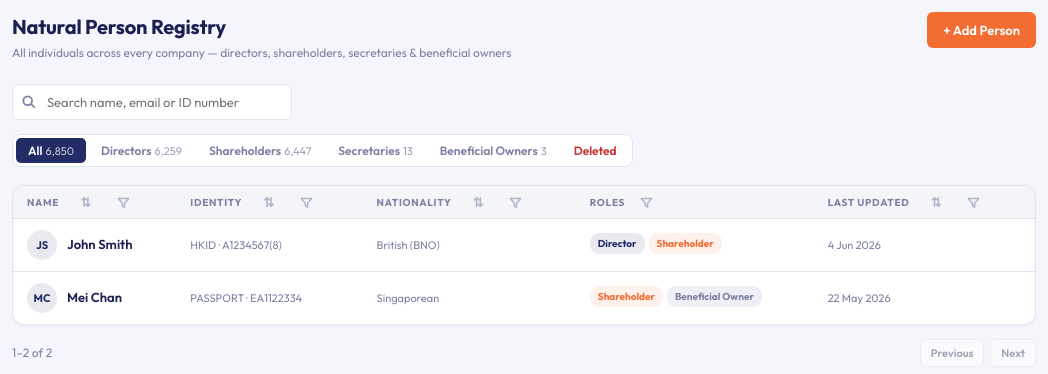
Scenario: PersonsRegistryPage — the Deleted tab (migration 049) › lists deleted persons from their own endpoint
Click the tab "Deleted" at coordinates (595, 150), box left=562, top=138, right=629, bottom=163
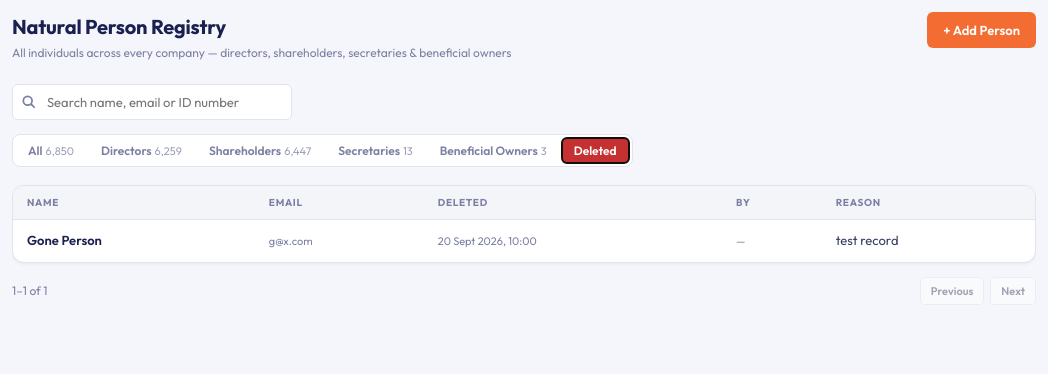
Check: the text "Gone Person" is shown, box left=27, top=232, right=102, bottom=248
Check: the text "test record" is shown, box left=822, top=220, right=1035, bottom=262
Check: the text "John Smith" is gone
